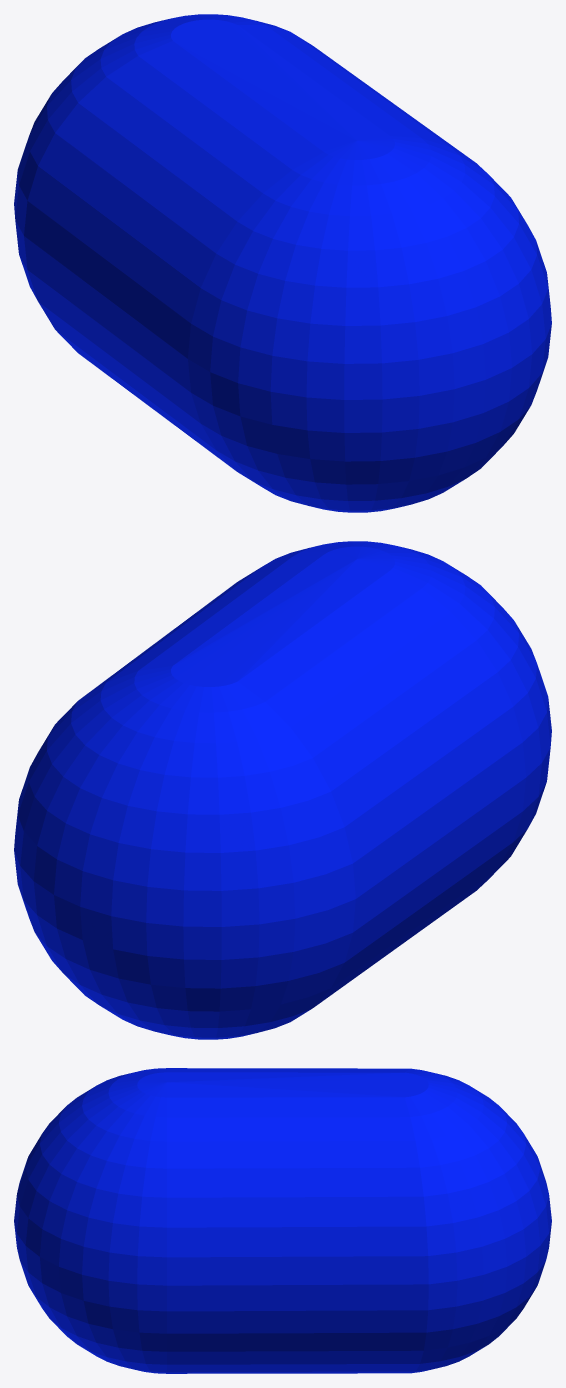
The model's file is PlayerBullet.obj.
3 views of the same model, one above another, from view 1: azimuth 30°, elevation 25°; view 2: azimuth 150°, elevation 25°; view 3: azimuth 270°, elevation 25° (orthographic). The views are drawn at different scales.
Parts seen in each view (by area): view 1: 球; view 2: 球; view 3: 球.
Part boxes in pixels (x1,y1,x2,y2): 球: (14, 14, 551, 512); 球: (14, 541, 551, 1039); 球: (14, 1068, 551, 1373).
Size of the model in its own units: 0.5092 by 0.5092 by 0.8952.
1 material, 1 textured.
